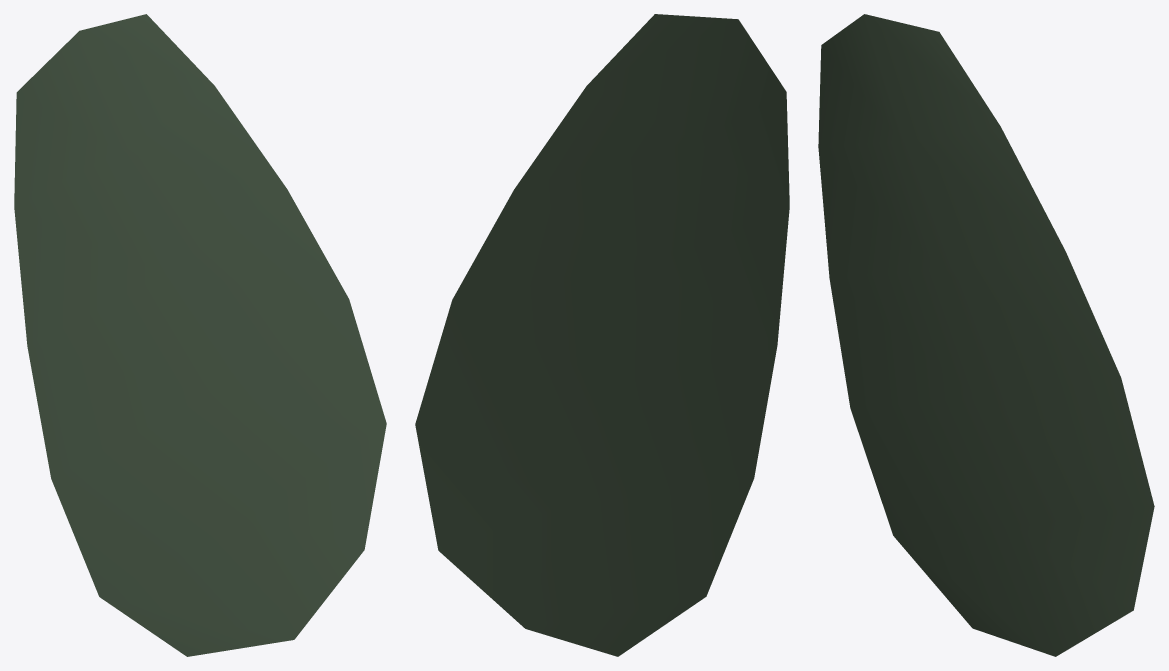
The model's file is duck_feather_flight_tertiary_021.obj.
The picture shows the model from 3 angles, left to right: view 1: azimuth 30°, elevation 25°; view 2: azimuth 150°, elevation 25°; view 3: azimuth 330°, elevation 25°; orthographic projection. The views are drawn at different scales.
Visible parts, largest first — view 1: feather_flight_tertiary_021; view 2: feather_flight_tertiary_021; view 3: feather_flight_tertiary_021.
Boxes of the visible parts, <box> form: feather_flight_tertiary_021: <box>14,14,386,656</box>; feather_flight_tertiary_021: <box>415,14,789,656</box>; feather_flight_tertiary_021: <box>818,14,1154,656</box>.
Size of the model in its own units: 0.0176 by 0.0298 by 0.000768.
